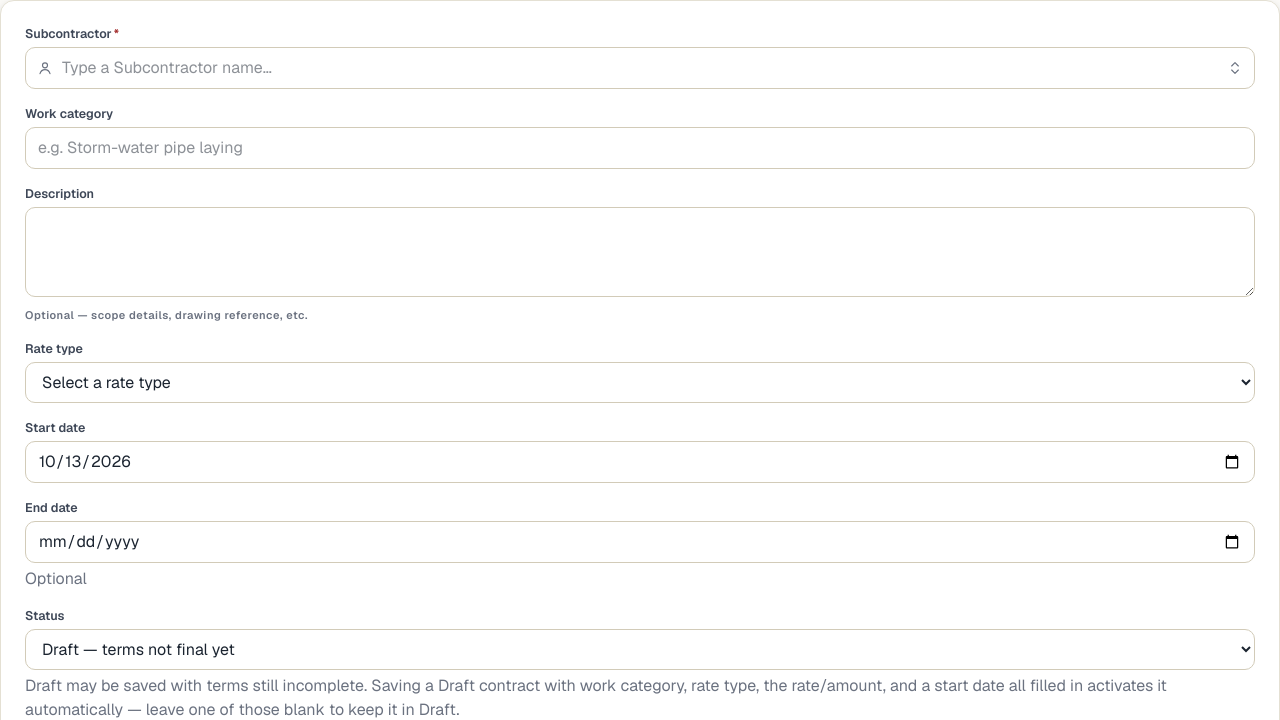
it: SiteContractForm › inline quick-create: + Add Subcontractor selects the new record and leaves the typed Work category unchanged
In the field labelled "Work category": (640, 148) top-left (25, 127), bottom-right (1255, 169), type "Storm-water pipe laying"
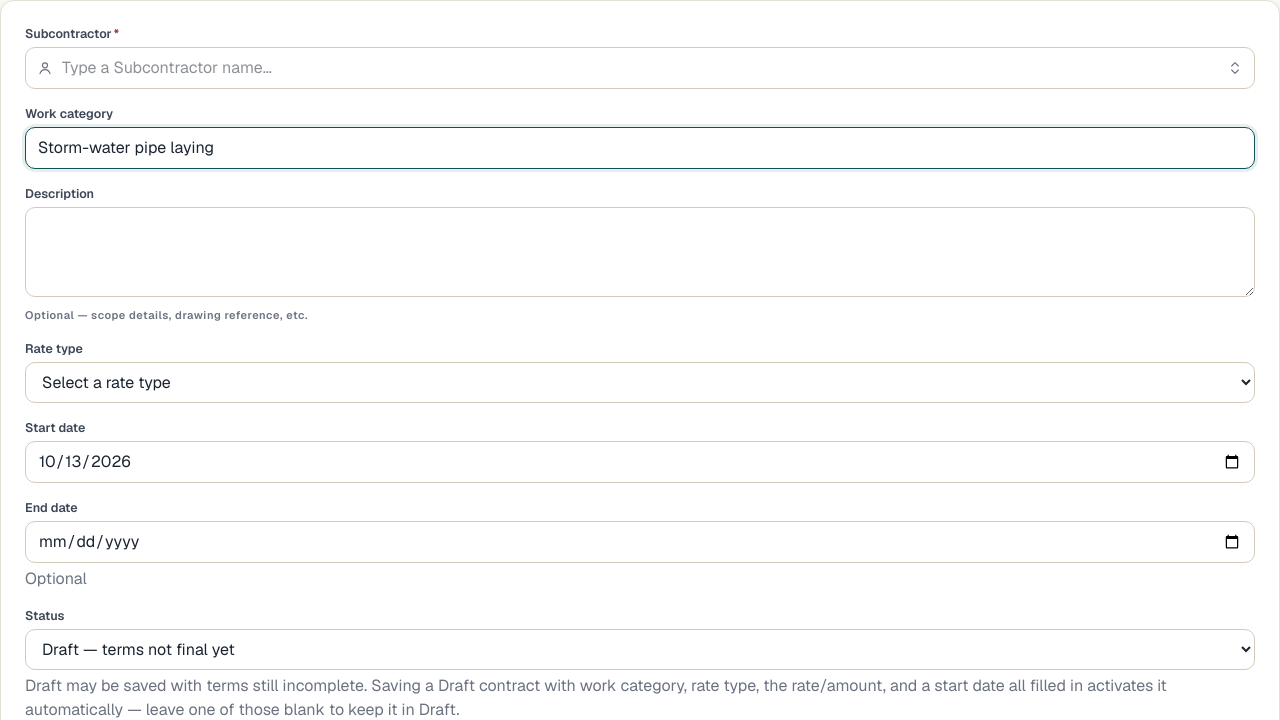
Click the dropdown labelled "Subcontractor": (640, 68) top-left (25, 47), bottom-right (1255, 89)
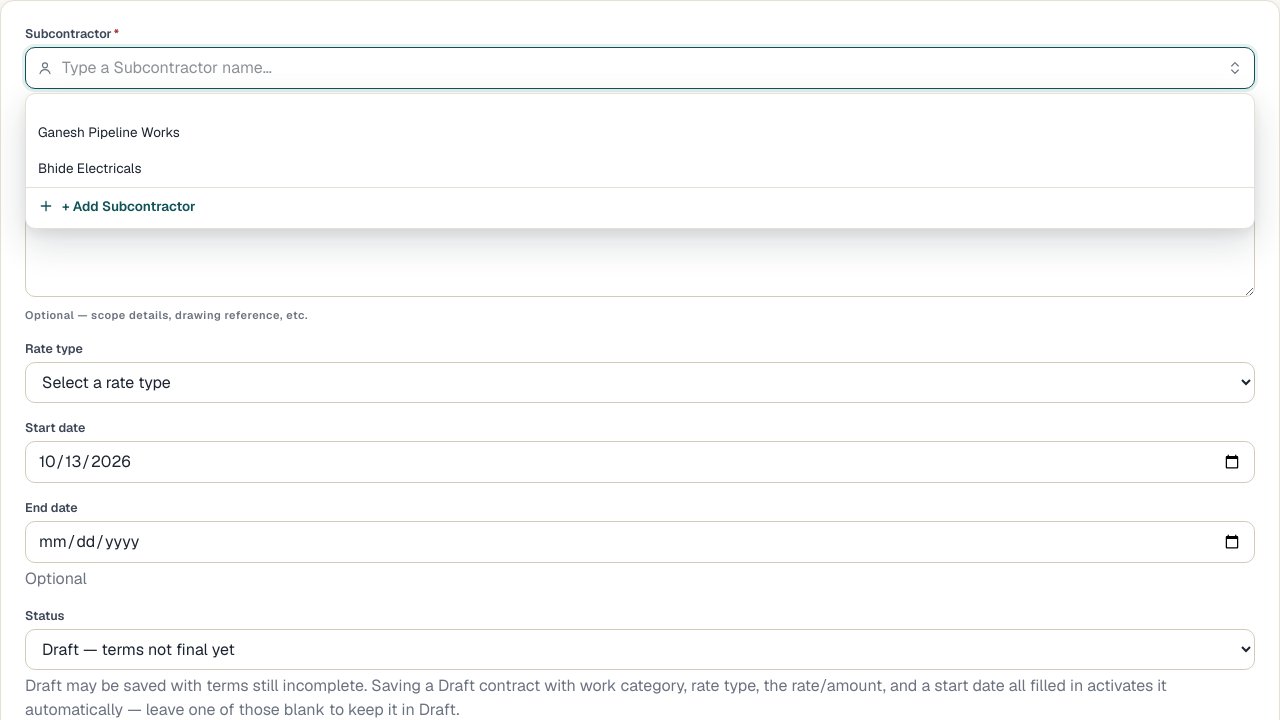
Click the button "+ Add Subcontractor": (129, 206) top-left (26, 186), bottom-right (1254, 224)
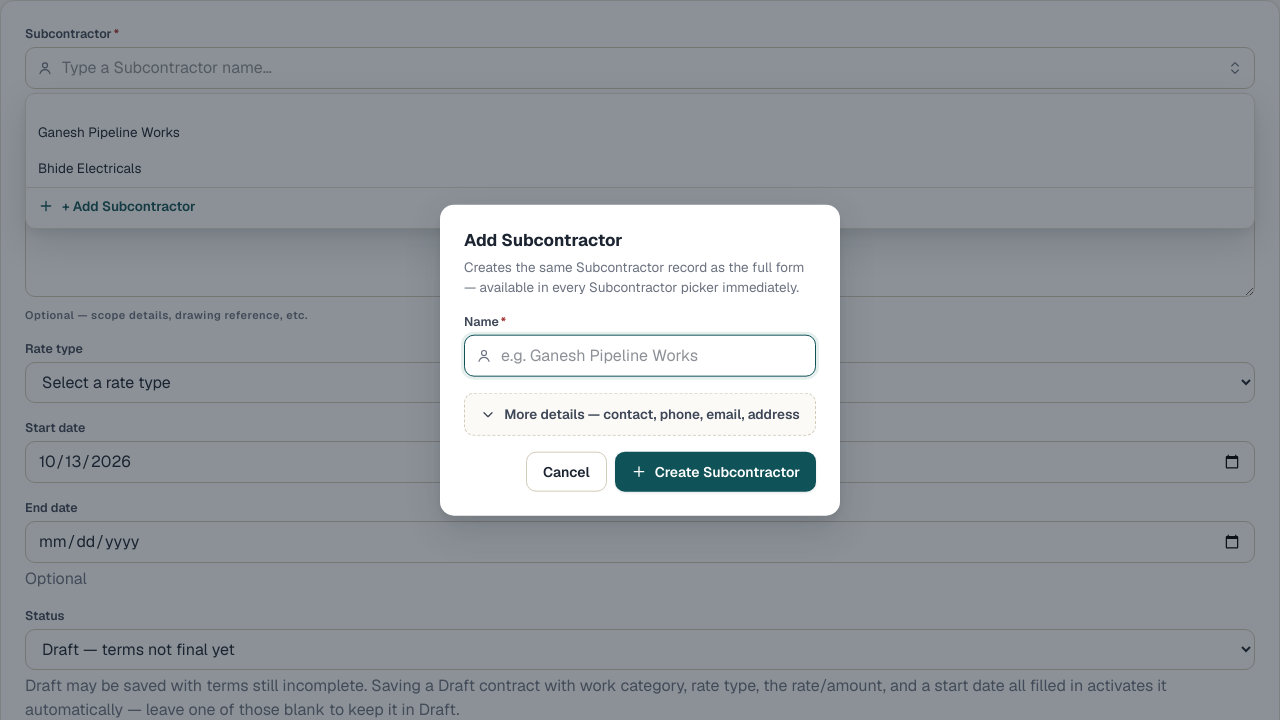
In the field labelled "Name": (640, 356) top-left (464, 335), bottom-right (816, 377), type "Fresh Electricals"
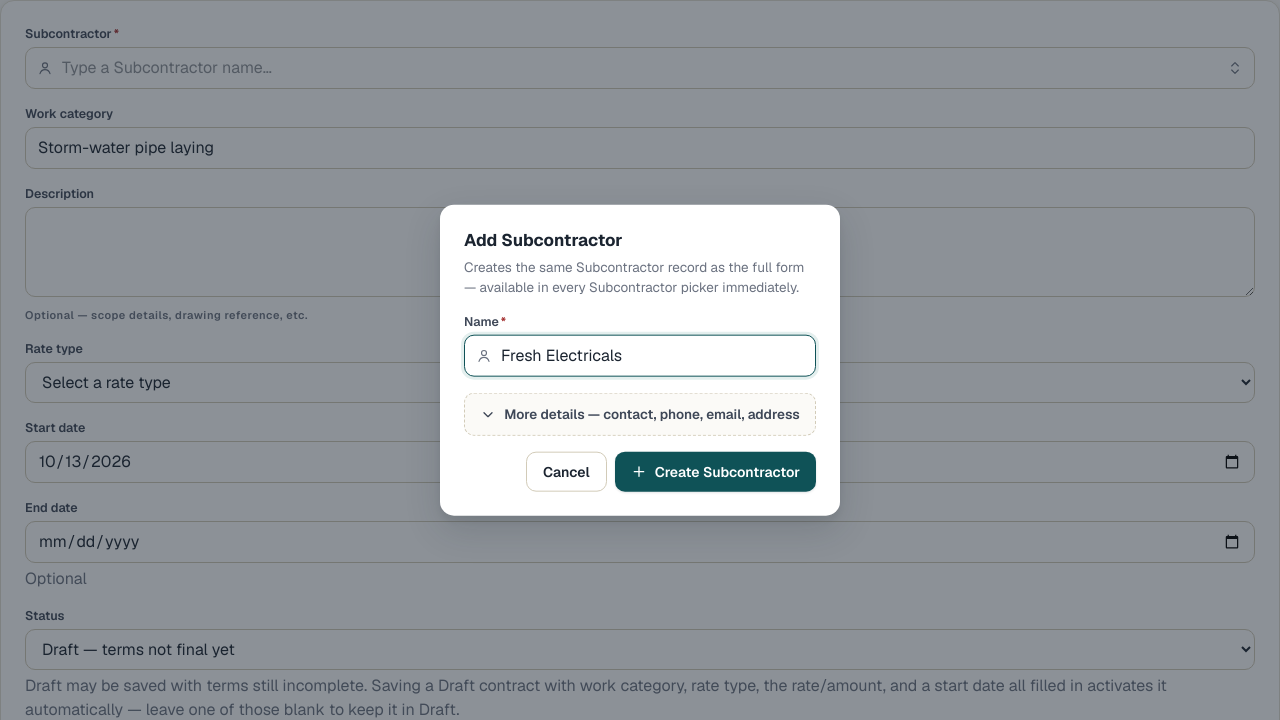
Click the button "Create Subcontractor": (715, 471) top-left (615, 451), bottom-right (816, 491)
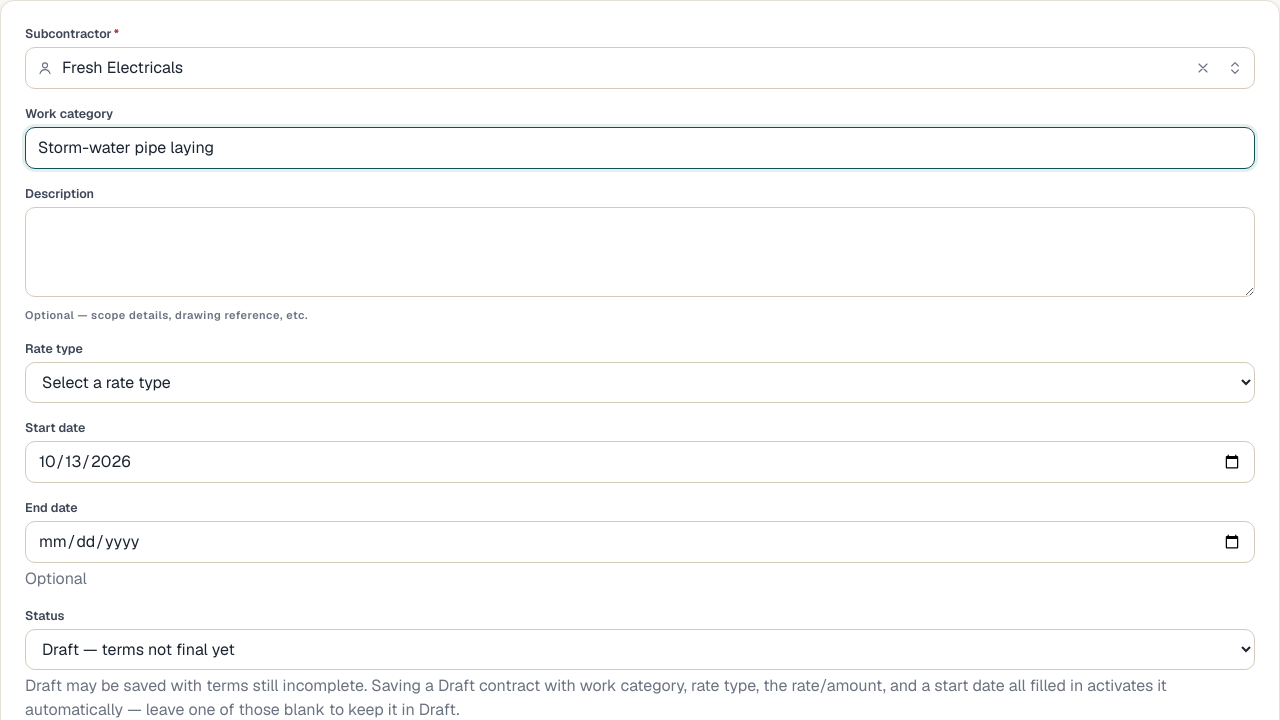
Result: the heading "Add Subcontractor" is gone
Result: the dropdown labelled "Subcontractor" holds "Fresh Electricals" at top-left (25, 47), bottom-right (1255, 89)
